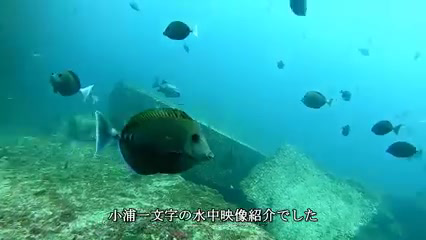kawahagi: (90, 107, 223, 178), (45, 67, 96, 106)
smallfish: (384, 139, 426, 167), (365, 115, 405, 141), (299, 88, 337, 114), (148, 75, 181, 102), (159, 19, 198, 40), (340, 87, 356, 105)
